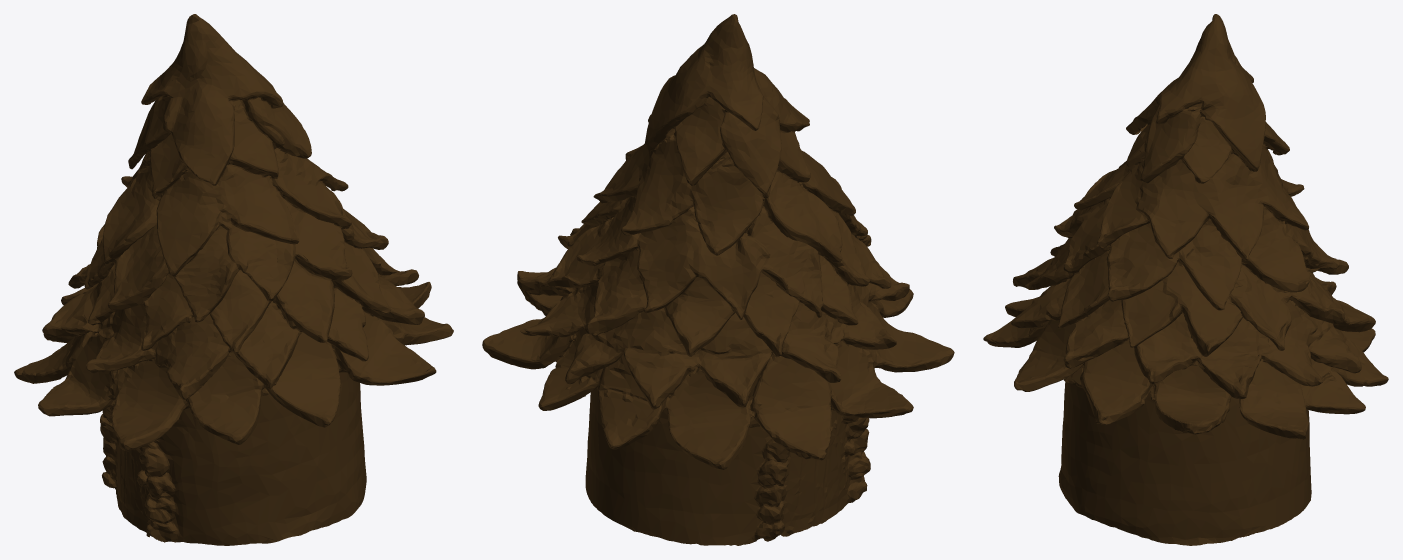
The model's file is HOUSE 1.fbx.
The picture shows the model from 3 angles, left to right: view 1: azimuth 30°, elevation 25°; view 2: azimuth 150°, elevation 25°; view 3: azimuth 270°, elevation 25°; orthographic projection. The views are drawn at different scales.
Visible parts, largest first — view 1: fuse_mesh; view 2: fuse_mesh; view 3: fuse_mesh.
Part boxes in pixels (box(x1,y1,x2,y2)): fuse_mesh: box(14, 14, 453, 545); fuse_mesh: box(482, 14, 954, 545); fuse_mesh: box(983, 14, 1388, 545).
Size of the model in its own units: 11845 by 14076 by 11065.
